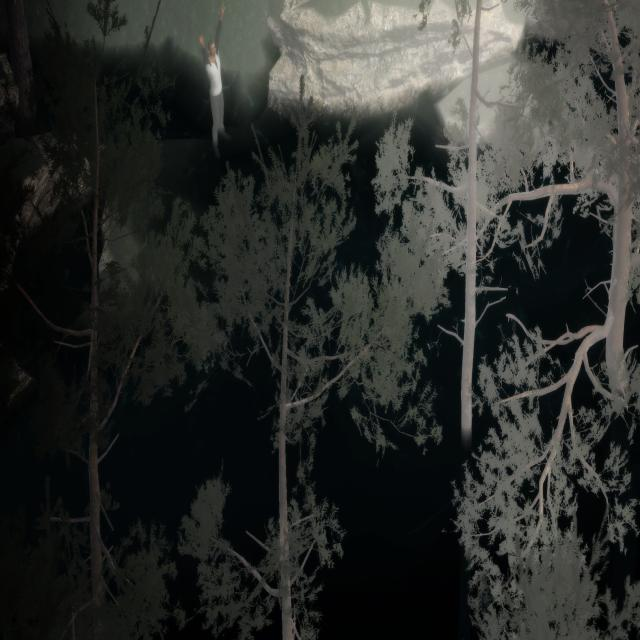Human: (197, 0, 231, 167)
